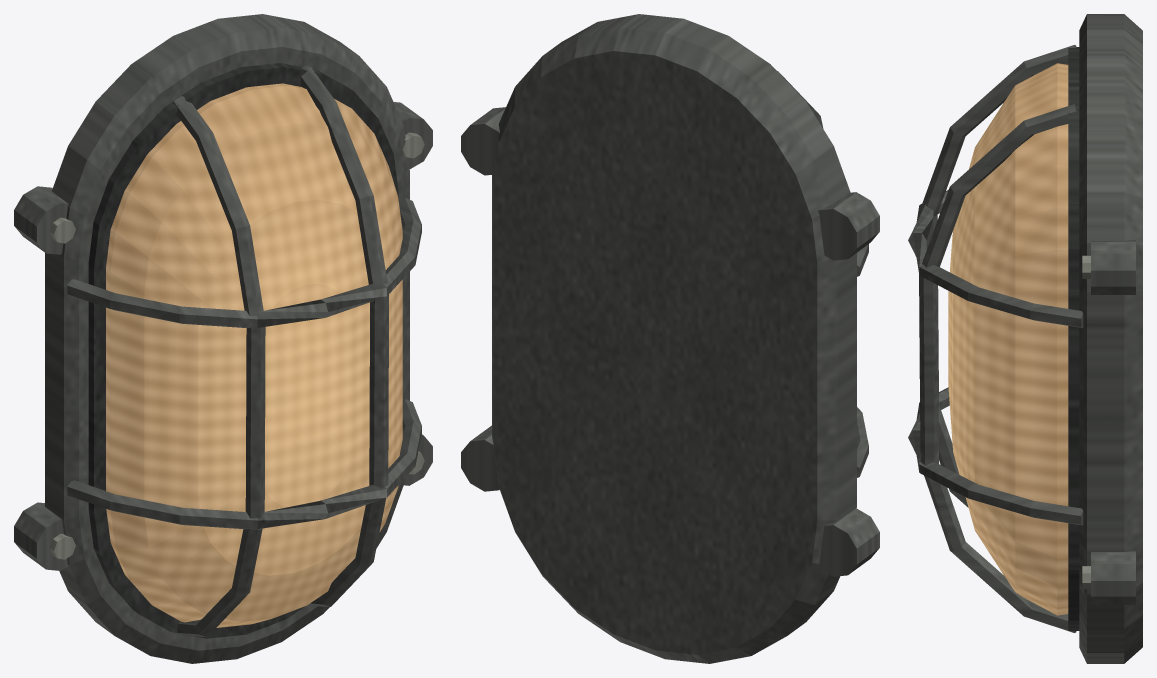
File: warm_bulkhead.glb
3 renders of one model, left to right at view 1: azimuth 30°, elevation 25°; view 2: azimuth 150°, elevation 25°; view 3: azimuth 270°, elevation 25°, orthographic.
Parts seen in each view (by area): view 1: Maintenance Warm Bulkhead; view 2: Maintenance Warm Bulkhead; view 3: Maintenance Warm Bulkhead.
Part boxes in pixels (x1=…): Maintenance Warm Bulkhead: x1=14, y1=14, x2=432, y2=663; Maintenance Warm Bulkhead: x1=461, y1=14, x2=879, y2=663; Maintenance Warm Bulkhead: x1=908, y1=14, x2=1142, y2=663.
Size of the model in its own units: 0.2882 by 0.436 by 0.151.
2 materials, 2 textured.
